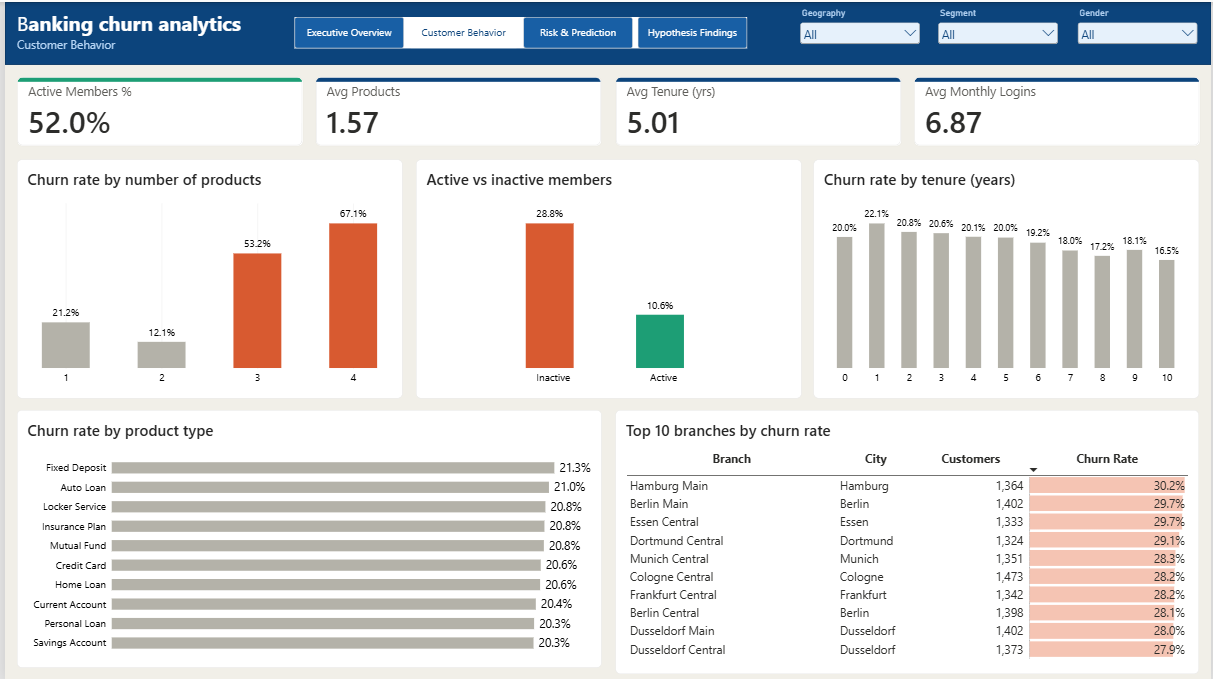

The page's visual inventory and layout, read from the dashboard file:
{"tool":"powerbi","page":{"name":"Customer Behavior","canvas":[1920,1080],"ordinal":1},"visuals":[{"type":"shape","box":[0,0,1920,100],"z":0},{"type":"textbox","box":[20,12,400,45],"z":1000},{"type":"textbox","box":[20,55,400,35],"z":2000},{"type":"pageNavigator","box":[460,25,720,50],"z":3000},{"type":"slicer","fields":{"Values":["bank_analytics vw_customers.geography"]},"box":[1260,10,200,80],"z":4000},{"type":"slicer","fields":{"Values":["bank_analytics vw_customers.segment"]},"box":[1480,10,200,80],"z":5000},{"type":"slicer","fields":{"Values":["bank_analytics vw_customers.gender"]},"box":[1700,10,200,80],"z":6000},{"type":"cardVisual","fields":{"Data":["page 2 measures.Active Members %"]},"box":[20,120,455,110],"z":7000},{"type":"cardVisual","fields":{"Data":["page 2 measures.Avg Tenure"]},"box":[970,120,455,110],"z":8000},{"type":"cardVisual","fields":{"Data":["page 2 measures.Avg Products"]},"box":[495,120,455,110],"z":9000},{"type":"cardVisual","fields":{"Data":["page 2 measures.Avg Monthly logs"]},"box":[1445,120,455,110],"z":10000},{"type":"clusteredColumnChart","title":"Churn rate by number of products","fields":{"Category":["bank_analytics vw_customers.num_products"],"Y":["new_measures.churn_rate"]},"box":[20,250,613,380],"z":11000},{"type":"clusteredColumnChart","title":"Active vs inactive members","fields":{"Category":["bank_analytics vw_customers.Member Status"],"Y":["new_measures.churn_rate"]},"box":[653,250,613,380],"z":12000},{"type":"clusteredColumnChart","title":"Churn rate by tenure (years)","fields":{"Category":["bank_analytics vw_customers.tenure"],"Y":["new_measures.churn_rate"]},"box":[1286,250,613,380],"z":13000},{"type":"clusteredBarChart","title":"Churn rate by product type","fields":{"Category":["bank_analytics products.product_name"],"Y":["page 2 measures.Product Churn Rate"]},"box":[20,650,930,410],"z":14000},{"type":"tableEx","title":"Top 10 branches by churn rate","fields":{"Values":["bank_analytics vw_customers.branch_name","bank_analytics vw_customers.city","new_measures.Total_customers","new_measures.Churn Rate"]},"box":[971.1,649,928.1,420],"z":15000}]}

Visuals, with their boxes in screenshot pixels (x1, y1, x2, y2), scaled from the page's 1920x1080 canvas onto the 1213x679 screenshot:
shape: {"left": 0, "top": 0, "right": 1212, "bottom": 63}
textbox: {"left": 13, "top": 8, "right": 265, "bottom": 36}
textbox: {"left": 13, "top": 35, "right": 265, "bottom": 57}
pageNavigator: {"left": 291, "top": 16, "right": 745, "bottom": 47}
slicer - bank_analytics vw_customers.geography: {"left": 796, "top": 6, "right": 922, "bottom": 57}
slicer - bank_analytics vw_customers.segment: {"left": 935, "top": 6, "right": 1061, "bottom": 57}
slicer - bank_analytics vw_customers.gender: {"left": 1074, "top": 6, "right": 1200, "bottom": 57}
cardVisual - page 2 measures.Active Members %: {"left": 13, "top": 75, "right": 300, "bottom": 145}
cardVisual - page 2 measures.Avg Tenure: {"left": 613, "top": 75, "right": 900, "bottom": 145}
cardVisual - page 2 measures.Avg Products: {"left": 313, "top": 75, "right": 600, "bottom": 145}
cardVisual - page 2 measures.Avg Monthly logs: {"left": 913, "top": 75, "right": 1200, "bottom": 145}
"Churn rate by number of products" clusteredColumnChart: {"left": 13, "top": 157, "right": 400, "bottom": 396}
"Active vs inactive members" clusteredColumnChart: {"left": 413, "top": 157, "right": 800, "bottom": 396}
"Churn rate by tenure (years)" clusteredColumnChart: {"left": 812, "top": 157, "right": 1200, "bottom": 396}
"Churn rate by product type" clusteredBarChart: {"left": 13, "top": 409, "right": 600, "bottom": 666}
"Top 10 branches by churn rate" tableEx: {"left": 614, "top": 408, "right": 1200, "bottom": 672}
